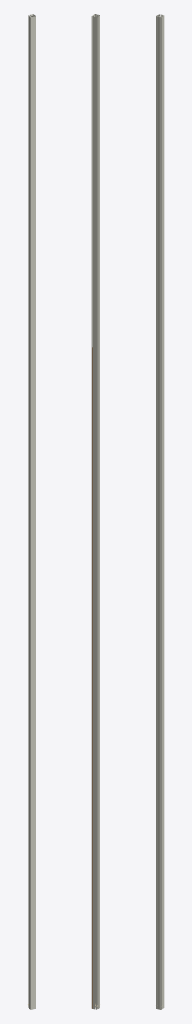
The picture shows the model from 3 angles, left to right: view 1: azimuth 30°, elevation 25°; view 2: azimuth 150°, elevation 25°; view 3: azimuth 330°, elevation 25°; orthographic projection.
Parts seen in each view (by area): view 1: wall_39, wall_41, wall_28, wall_3, wall_15, wall_35; view 2: wall_8, wall_14, wall_3, wall_15, wall_11, wall_12, wall_26, wall_28, wall_5, wall_33, door_0; view 3: wall_41, wall_39, wall_12, wall_31, wall_13, wall_40.
Boxes of the visible parts, left/top/right/bottom form: wall_39: left=30, top=17, right=33, bottom=1009; wall_41: left=33, top=16, right=35, bottom=1008; wall_28: left=29, top=17, right=30, bottom=1009; wall_3: left=28, top=15, right=28, bottom=1007; wall_15: left=29, top=16, right=29, bottom=1008; wall_35: left=33, top=17, right=33, bottom=1008; wall_8: left=93, top=16, right=95, bottom=1009; wall_14: left=96, top=16, right=98, bottom=1008; wall_3: left=96, top=17, right=97, bottom=1009; wall_15: left=98, top=16, right=99, bottom=1008; wall_11: left=92, top=15, right=94, bottom=1008; wall_12: left=91, top=15, right=92, bottom=1008; wall_26: left=95, top=15, right=97, bottom=1007; wall_28: left=99, top=15, right=99, bottom=1007; wall_5: left=96, top=17, right=96, bottom=1008; wall_33: left=95, top=14, right=95, bottom=1006; door_0: left=92, top=347, right=92, bottom=1008; wall_41: left=158, top=17, right=160, bottom=1009; wall_39: left=156, top=16, right=157, bottom=1009; wall_12: left=163, top=15, right=164, bottom=1008; wall_31: left=161, top=16, right=162, bottom=1009; wall_13: left=162, top=16, right=162, bottom=1008; wall_40: left=158, top=17, right=158, bottom=1008.
Bounding box in the file's own units: 0.0178 × 3 × 0.0177.
